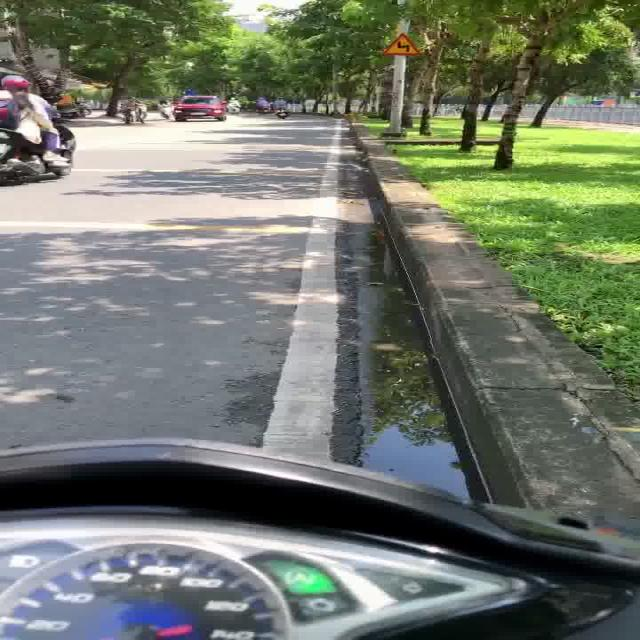Bien bao nhieu cho ngoat nguy hiem lien tiep: (372, 29, 428, 58)
